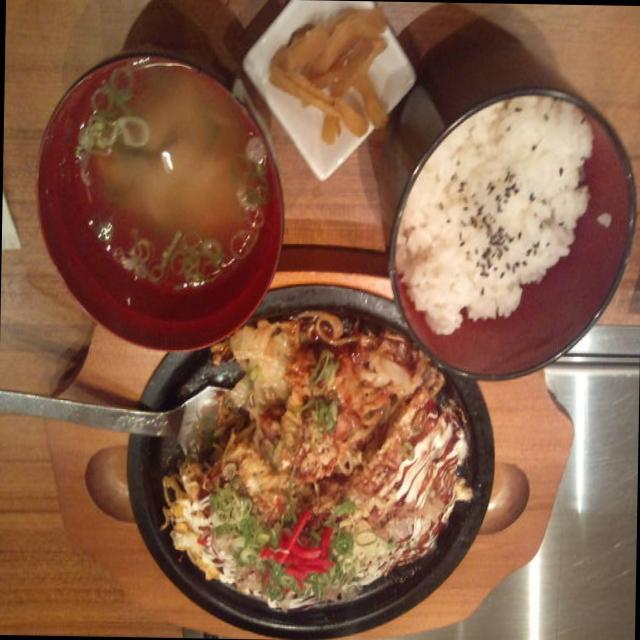Rice: (402, 116, 584, 335)
